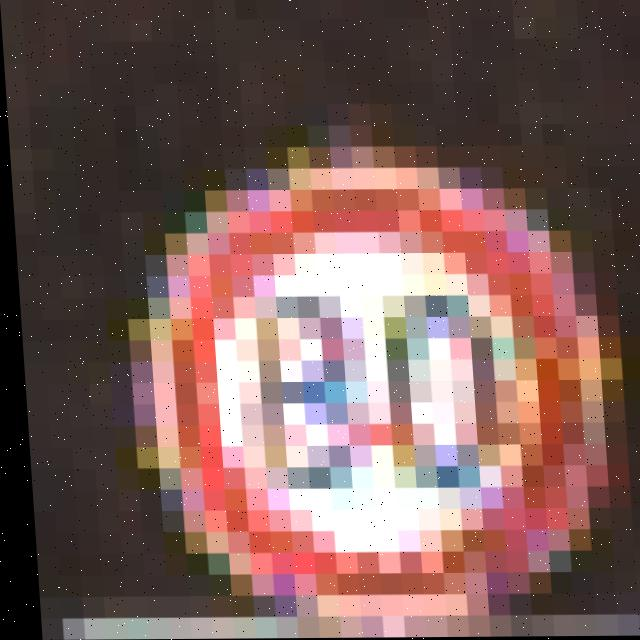speed_limit_80: (149, 177, 640, 609)
